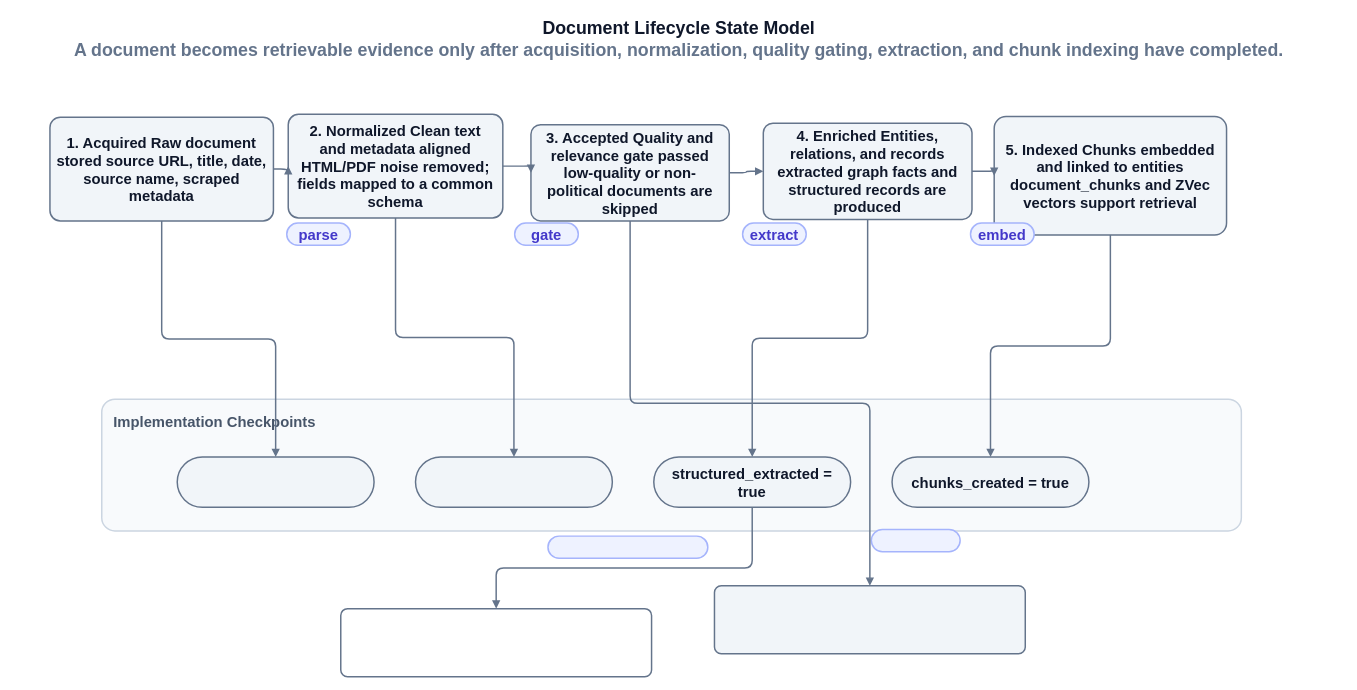
The diagram is 1357 pixels wide and 690 high, and some of its shapes have lost their labels. The centre of each missing label's shape, as x and y in pixels:
all checkpoints complete: [627,547]
documents collection created: [275,482]
graph_extracted = true: [513,482]
quality fail: [915,540]
Ready for retrieval and answer synthesis: [496,642]
Skipped or deferred when quality is insufficient: [869,619]
